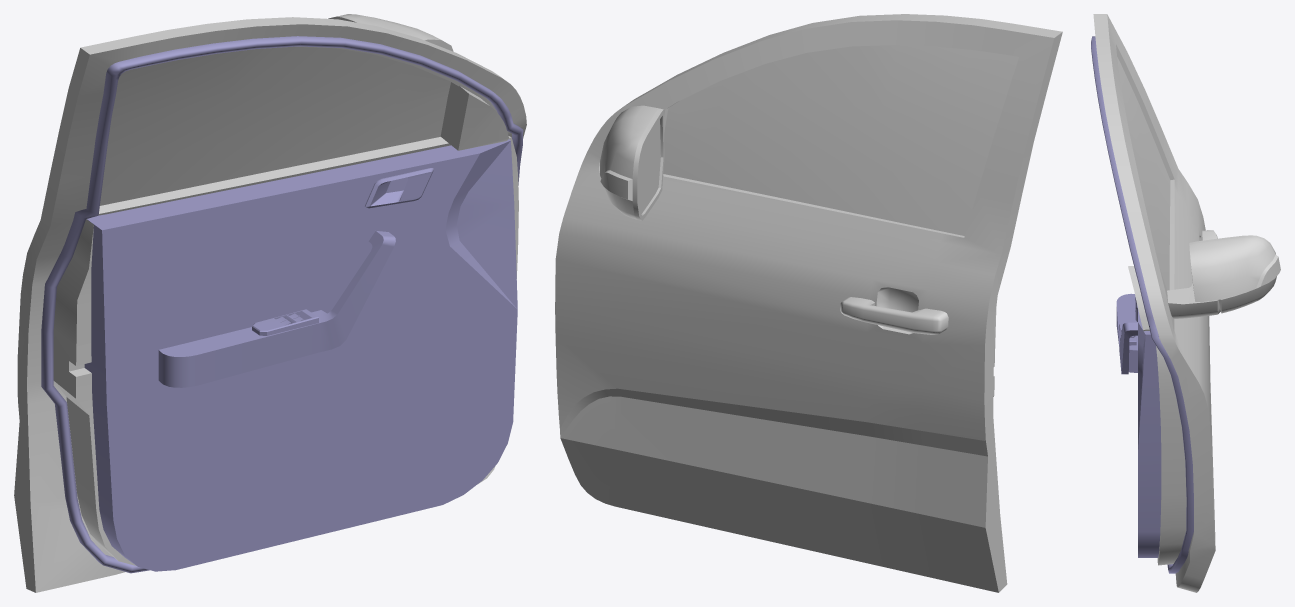
Rendered from front_door.fbx.
3 views of the same model, side by side, from view 1: azimuth 30°, elevation 25°; view 2: azimuth 150°, elevation 25°; view 3: azimuth 270°, elevation 25° (orthographic). The views are drawn at different scales.
Visible parts, largest first — view 1: PTN_4X4_GB_14_001.011; view 2: PTN_4X4_GB_14_001.011; view 3: PTN_4X4_GB_14_001.011.
Part boxes in pixels (bbox=[...]): PTN_4X4_GB_14_001.011: bbox=[14, 14, 526, 592]; PTN_4X4_GB_14_001.011: bbox=[555, 14, 1062, 592]; PTN_4X4_GB_14_001.011: bbox=[1091, 14, 1280, 592].
Bounding box in the file's own units: 109 × 125 × 50.81.
